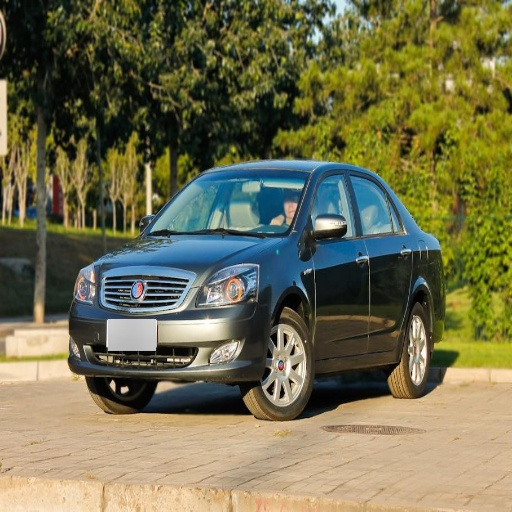front_bumper: (68, 268, 272, 382)
front_glass: (147, 170, 308, 235)
front_left_door: (307, 170, 369, 358)
